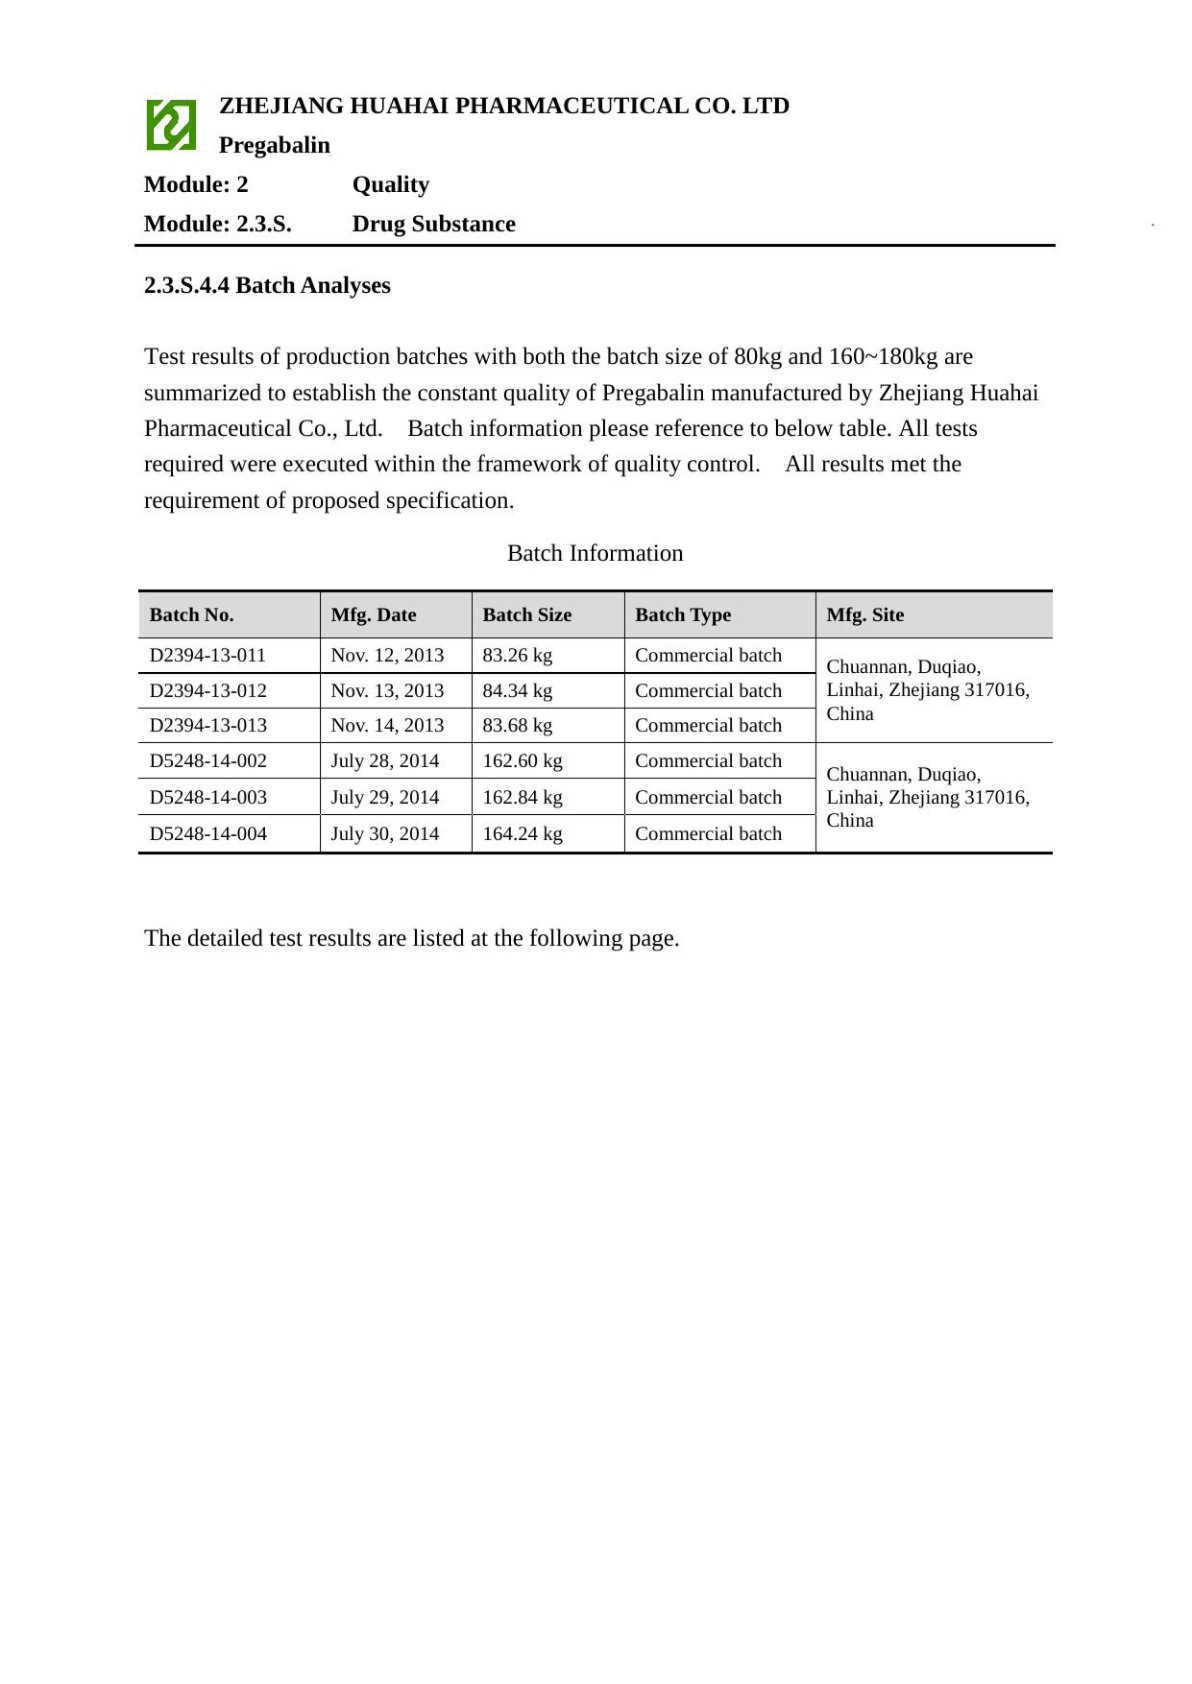partial_lined_merged_cells: (137, 589, 1054, 856)
